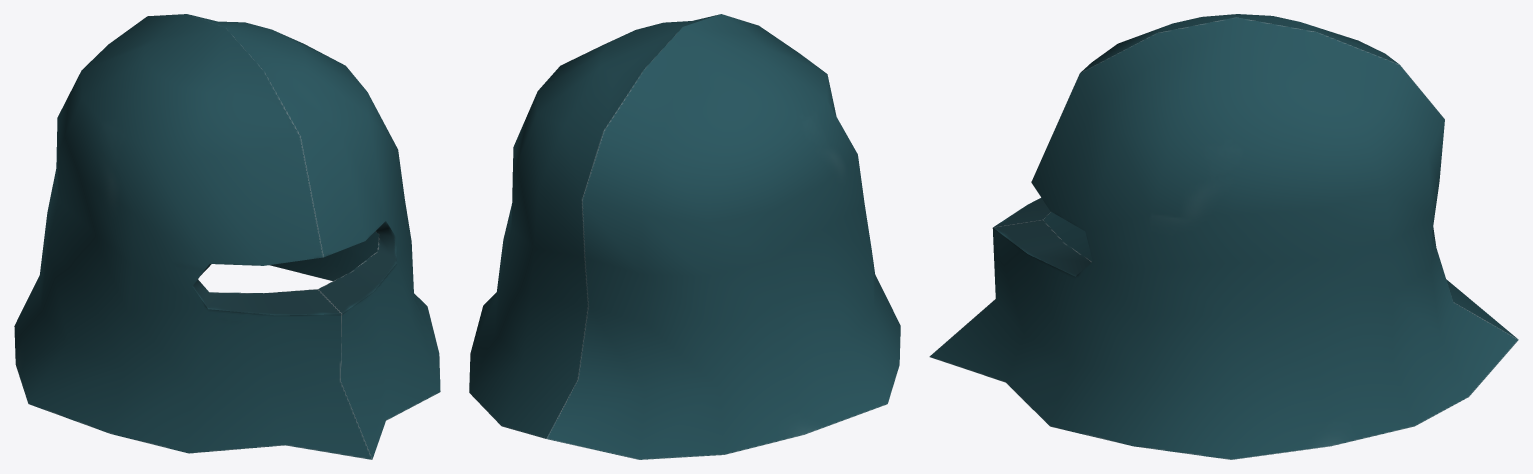
The model's file is HelmetVar3.fbx.
3 views of the same model, side by side, from view 1: azimuth 30°, elevation 25°; view 2: azimuth 150°, elevation 25°; view 3: azimuth 270°, elevation 25° (orthographic). The views are drawn at different scales.
Visible parts, largest first — view 1: HelmetVar3; view 2: HelmetVar3; view 3: HelmetVar3.
Boxes of the visible parts, left/top/right/bottom form: HelmetVar3: left=14, top=14, right=440, bottom=459; HelmetVar3: left=469, top=14, right=900, bottom=459; HelmetVar3: left=929, top=14, right=1518, bottom=459.
Bounding box in the file's own units: 37.64 × 29.69 × 46.
